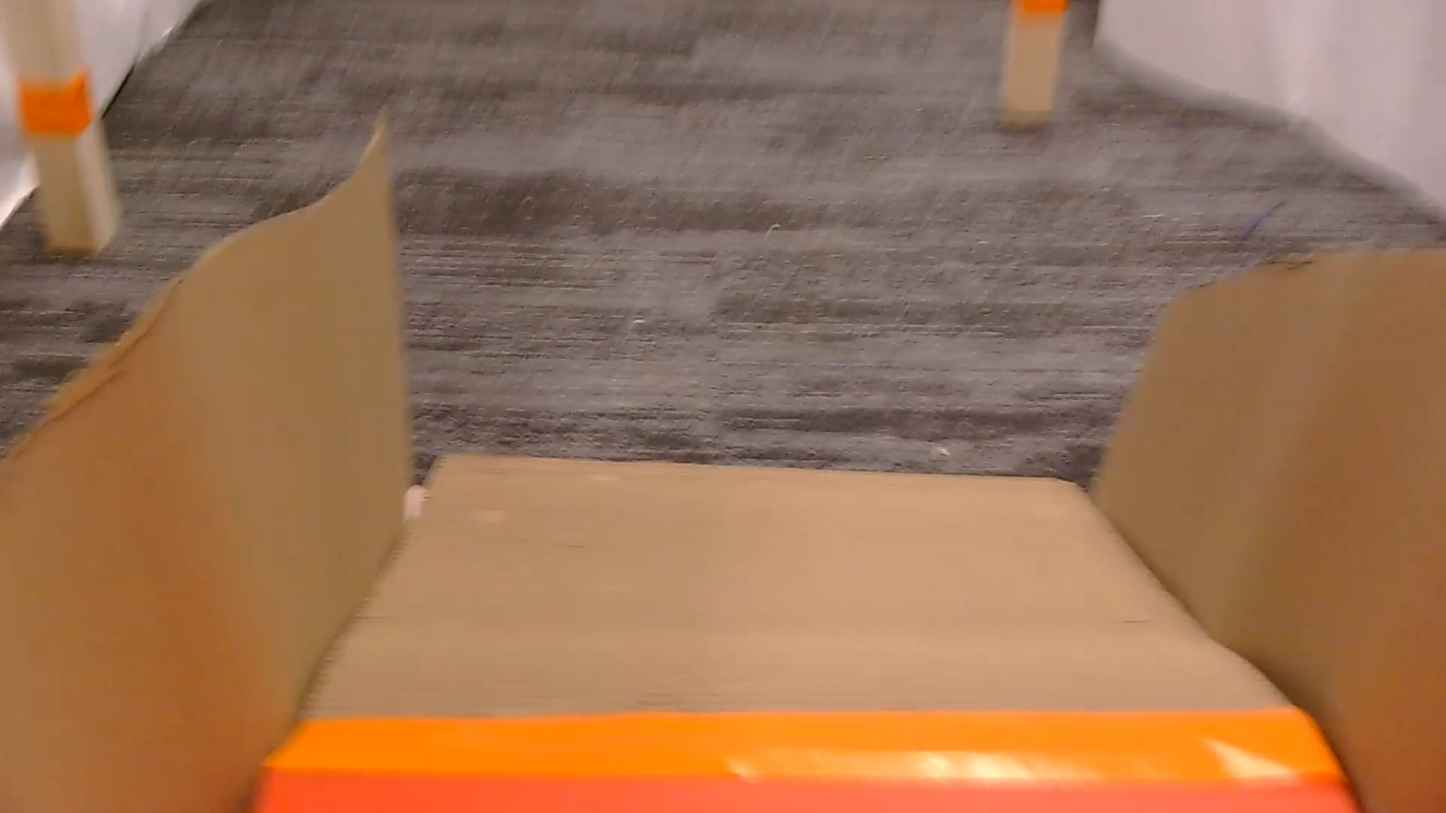Ramp: (0, 126, 1445, 812)
Wooden Block: (0, 0, 119, 255), (1002, 0, 1068, 126)
